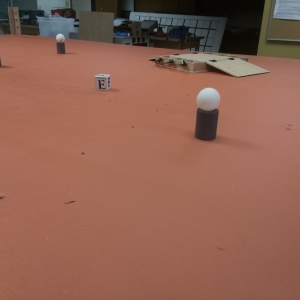blockE: (93, 73, 114, 92)
corner: (8, 7, 22, 37)
obstacle: (196, 86, 221, 148), (55, 34, 68, 55)
side: (155, 56, 207, 75)
slope: (209, 57, 270, 78), (147, 54, 155, 61)
